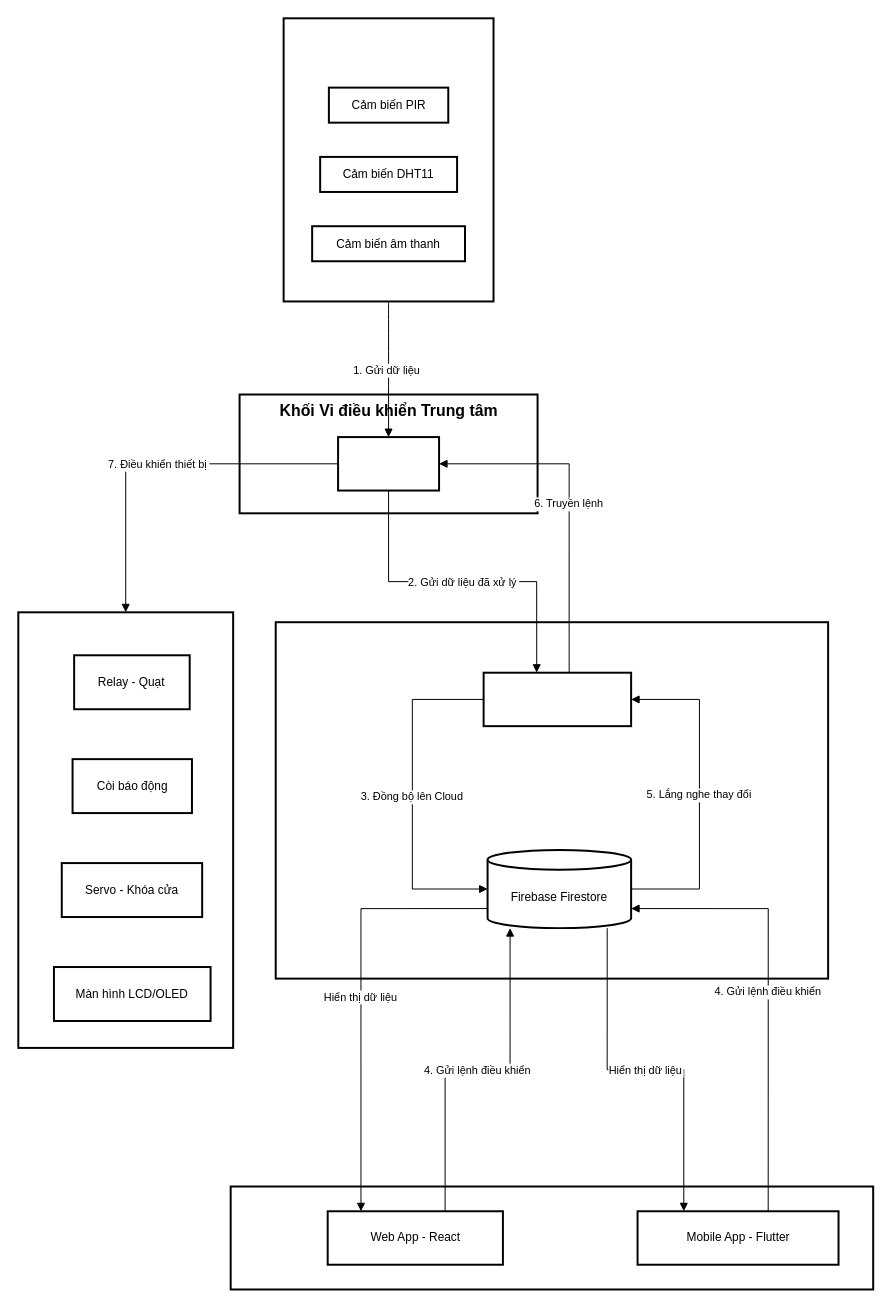
This 891x1307 diagram has some shape labels left out. Here are the shapes that lost their labels. From the top down, the box of each, then its label:
(282, 17, 494, 302): Khối Cảm biến (Inputs)
(337, 436, 440, 491): ESP32
(482, 671, 632, 727): Wi-Fi Router
(274, 621, 829, 979): Khối Giao tiếp & Backend
(17, 611, 234, 1048): Khối Chấp hành (Outputs)
(229, 1185, 874, 1290): Khối Giao diện Người dùng (UI)
